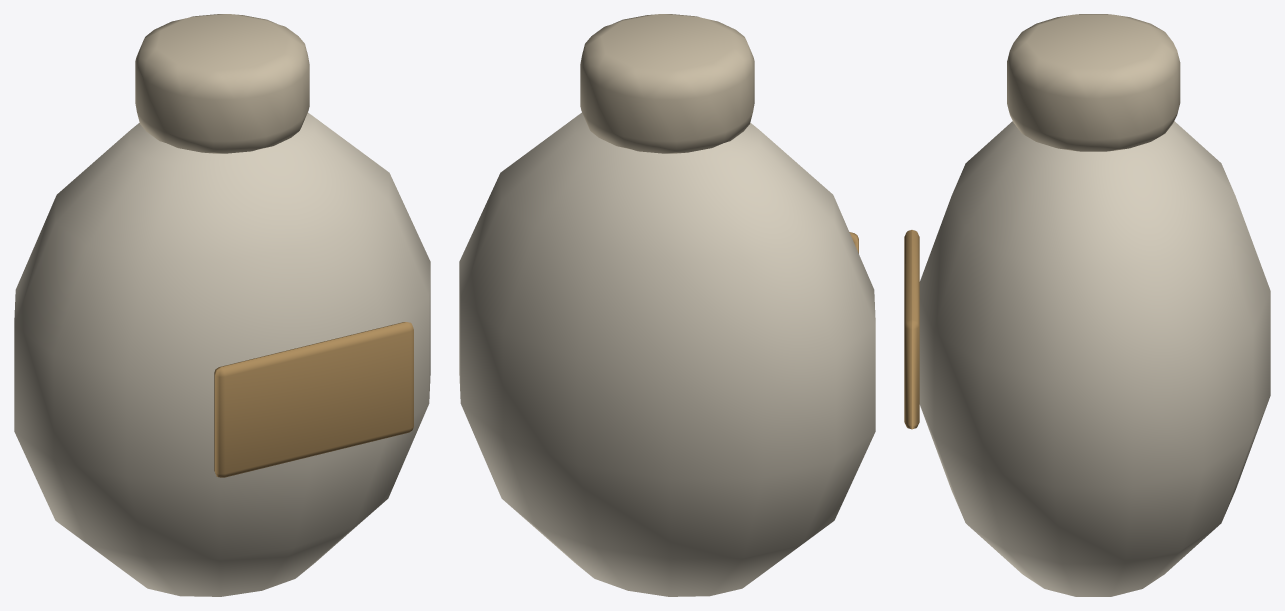
File: ing_base.glb
3 renders of one model, left to right at view 1: azimuth 30°, elevation 25°; view 2: azimuth 150°, elevation 25°; view 3: azimuth 270°, elevation 25°, orthographic.
Visible parts, largest first — view 1: ing_base; view 2: ing_base; view 3: ing_base.
Part boxes in pixels (x1,y1,x2,y2): ing_base: (14, 14, 430, 596); ing_base: (459, 14, 875, 596); ing_base: (904, 14, 1270, 596).
Size of the model in its own units: 0.5703 by 0.785 by 0.484.
